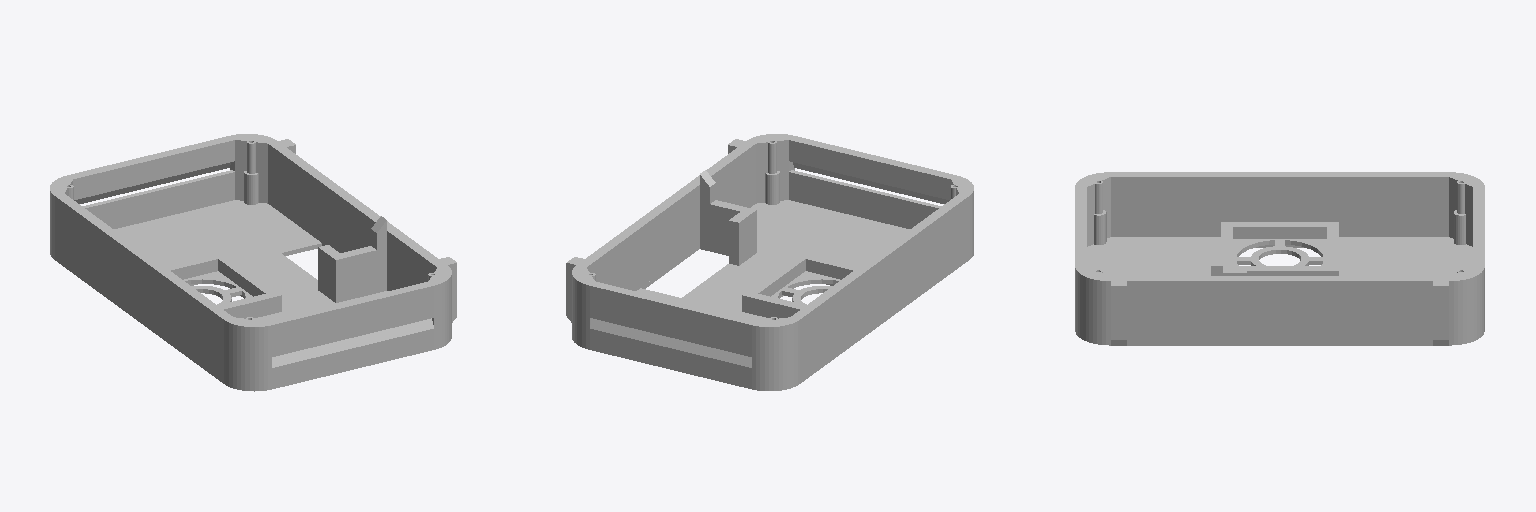
Rendered from Hub base.obj.
The picture shows the model from 3 angles: view 1: azimuth 30°, elevation 25°; view 2: azimuth 150°, elevation 25°; view 3: azimuth 270°, elevation 25°; orthographic projection.
Parts seen in each view (by area): view 1: Mesh1 Base1 Model; view 2: Mesh1 Base1 Model; view 3: Mesh1 Base1 Model.
Boxes of the visible parts, x1,y1,x2,y2 form: Mesh1 Base1 Model: [50, 134, 456, 391]; Mesh1 Base1 Model: [566, 134, 973, 390]; Mesh1 Base1 Model: [1075, 172, 1484, 345].
Bounding box in the file's own units: 114 × 35 × 173.